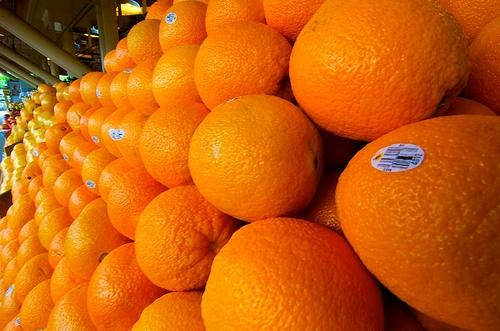apple: (0, 125, 9, 129), (10, 119, 16, 124), (7, 118, 14, 122), (15, 109, 20, 113), (4, 122, 10, 125), (16, 106, 20, 110), (10, 109, 12, 112), (22, 105, 24, 107)
orange: (334, 114, 500, 331), (288, 0, 471, 142), (199, 216, 385, 330), (188, 94, 326, 222), (134, 185, 244, 292), (194, 20, 296, 110), (86, 242, 173, 331), (139, 100, 212, 188), (64, 204, 132, 280), (107, 165, 170, 242), (291, 170, 349, 244), (460, 18, 500, 114), (152, 45, 204, 108), (130, 290, 206, 331), (263, 0, 327, 47), (439, 0, 500, 47), (116, 104, 160, 168), (46, 280, 99, 331), (158, 0, 208, 54), (314, 122, 370, 170), (205, 0, 267, 36), (14, 252, 55, 306), (50, 256, 90, 306), (100, 106, 136, 158), (19, 278, 54, 331), (82, 147, 119, 197), (126, 18, 163, 66), (127, 59, 161, 109), (38, 206, 74, 251), (98, 158, 134, 203), (408, 304, 468, 330), (88, 106, 118, 148), (384, 303, 428, 331), (68, 184, 100, 220), (53, 168, 83, 206), (18, 233, 48, 270), (440, 98, 498, 116), (8, 200, 36, 236), (34, 195, 64, 228), (110, 69, 134, 110), (72, 142, 100, 177), (48, 226, 70, 270), (0, 285, 21, 331), (96, 71, 122, 107), (82, 72, 108, 108), (43, 158, 74, 188), (45, 123, 73, 154), (64, 135, 88, 168), (80, 106, 102, 142), (66, 102, 93, 131), (115, 36, 137, 70), (1, 238, 20, 274), (80, 71, 102, 102), (20, 161, 42, 190), (18, 218, 39, 245), (145, 0, 173, 20), (41, 153, 64, 176), (79, 198, 106, 217), (54, 100, 74, 123), (27, 174, 44, 201), (34, 186, 54, 208), (38, 148, 56, 172), (103, 49, 119, 73), (69, 79, 84, 104), (32, 142, 48, 165), (2, 226, 18, 248), (2, 313, 22, 330), (42, 95, 60, 112), (13, 194, 32, 208), (39, 91, 57, 104), (12, 154, 26, 170), (56, 85, 69, 102), (10, 170, 22, 188), (33, 106, 45, 123), (173, 0, 210, 5), (2, 166, 14, 180), (28, 104, 42, 116), (6, 205, 16, 221), (22, 113, 34, 126), (0, 156, 11, 170), (12, 166, 26, 177), (0, 278, 7, 299), (0, 216, 9, 232), (34, 128, 46, 140), (63, 85, 72, 101), (22, 135, 34, 146), (28, 118, 36, 132), (41, 85, 57, 92), (24, 100, 34, 111), (26, 141, 36, 152), (0, 180, 11, 190), (12, 177, 20, 188), (14, 143, 24, 150), (16, 122, 24, 130), (20, 108, 26, 115), (7, 135, 14, 141)
